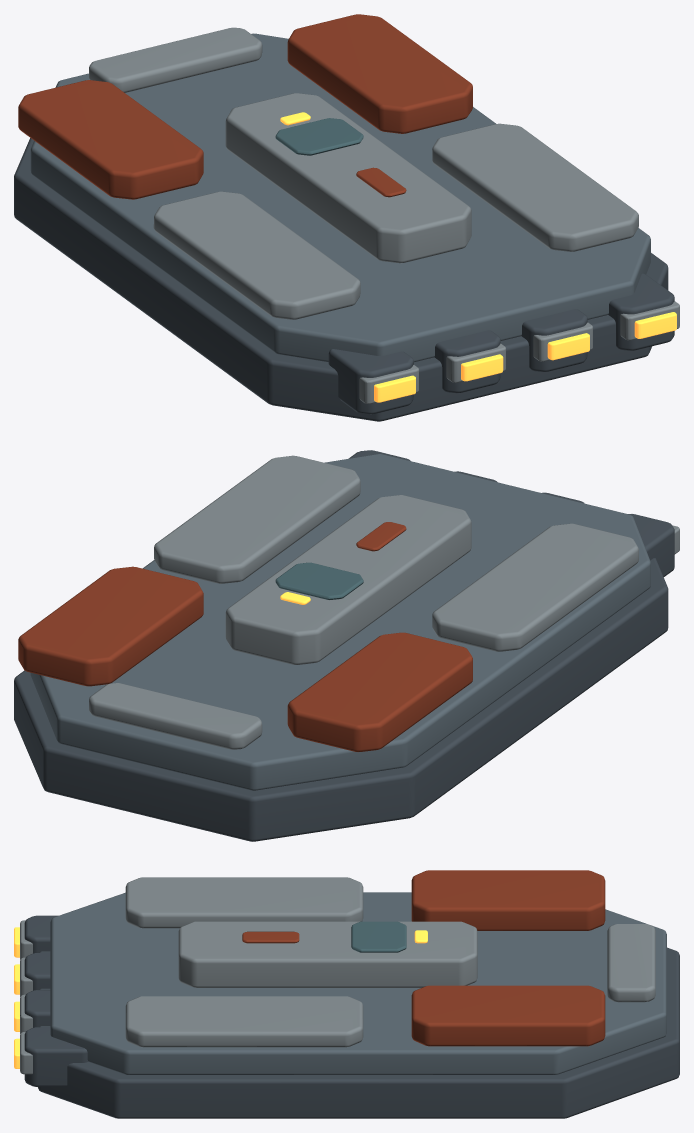
File: enemy-super-8slot.glb
The picture shows the model from 3 angles, top to bottom: view 1: azimuth 30°, elevation 25°; view 2: azimuth 150°, elevation 25°; view 3: azimuth 270°, elevation 25°; orthographic projection. The views are drawn at different scales.
Visible parts, largest first — view 1: Armored deck, Graphite keel, Command spine, Citadel side plate.001, Citadel side plate, Forward armored tower, Forward armored tower.001, Blunt bow cap, Engine cowling, Engine cowling.003, Recessed bridge glass, Engine cowling.001 (+10 smaller); view 2: Armored deck, Graphite keel, Command spine, Citadel side plate.001, Citadel side plate, Forward armored tower.001, Forward armored tower, Blunt bow cap, Recessed bridge glass, Engine cowling, Rust axial stripe; view 3: Armored deck, Graphite keel, Command spine, Citadel side plate.001, Forward armored tower.001, Forward armored tower, Citadel side plate, Blunt bow cap, Engine cowling.003, Recessed bridge glass, Engine cowling, Engine cowling.002 (+3 smaller).
Part boxes in pixels (<box>): Armored deck: <box>30,33,650,361</box>; Graphite keel: <box>14,138,668,421</box>; Command spine: <box>225,93,471,263</box>; Citadel side plate.001: <box>432,123,638,251</box>; Citadel side plate: <box>153,191,360,319</box>; Forward armored tower: <box>18,80,203,199</box>; Forward armored tower.001: <box>287,14,472,133</box>; Blunt bow cap: <box>89,27,262,92</box>; Engine cowling: <box>328,349,413,414</box>; Engine cowling.003: <box>608,273,674,350</box>; Recessed bridge glass: <box>275,118,363,155</box>; Engine cowling.001: <box>434,330,500,393</box>; Armored deck: <box>30,454,650,790</box>; Graphite keel: <box>14,558,668,841</box>; Command spine: <box>225,495,471,664</box>; Citadel side plate.001: <box>154,455,360,583</box>; Citadel side plate: <box>432,523,638,651</box>; Forward armored tower.001: <box>18,566,203,686</box>; Forward armored tower: <box>287,632,472,752</box>; Blunt bow cap: <box>89,683,262,749</box>; Recessed bridge glass: <box>275,562,363,600</box>; Engine cowling: <box>628,514,674,576</box>; Rust axial stripe: <box>356,522,406,551</box>; Armored deck: <box>50,892,666,1074</box>; Graphite keel: <box>38,947,679,1118</box>; Command spine: <box>178,921,477,987</box>; Citadel side plate.001: <box>125,996,363,1047</box>; Forward armored tower.001: <box>411,985,605,1046</box>; Forward armored tower: <box>411,870,605,930</box>; Citadel side plate: <box>125,877,363,928</box>; Blunt bow cap: <box>607,924,655,1002</box>; Engine cowling.003: <box>24,1027,88,1086</box>; Recessed bridge glass: <box>351,921,406,952</box>; Engine cowling: <box>24,915,58,953</box>; Engine cowling.002: <box>24,990,50,1027</box>.
Size of the model in its own units: 4.6 by 1.25 by 7.57.
